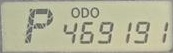1: (160, 20, 169, 43), (124, 20, 132, 43)
4: (62, 22, 78, 44)
6: (79, 21, 94, 44)
9: (133, 20, 151, 44), (96, 21, 114, 44)
X: (24, 7, 53, 44), (70, 6, 80, 18), (80, 7, 89, 18), (90, 6, 99, 17)
